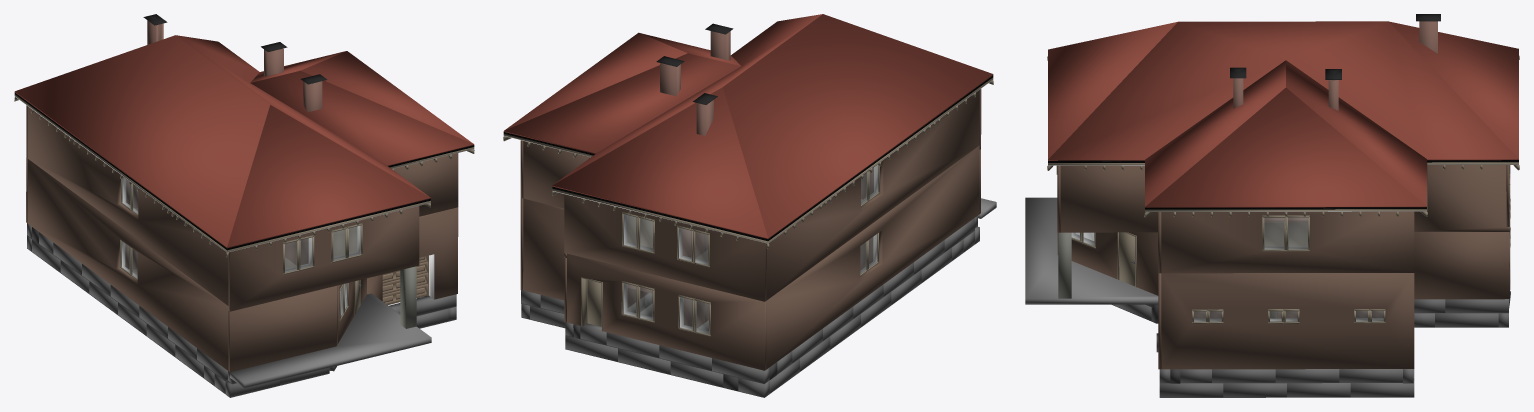
Rendered from haus2.dae.
3 views of the same model, side by side, from view 1: azimuth 30°, elevation 25°; view 2: azimuth 150°, elevation 25°; view 3: azimuth 270°, elevation 25° (orthographic). The views are drawn at different scales.
Visible parts, largest first — view 1: node_d2acf977_809f_4dec_8dc0_17726fb9cc47_mesh0; view 2: node_d2acf977_809f_4dec_8dc0_17726fb9cc47_mesh0; view 3: node_d2acf977_809f_4dec_8dc0_17726fb9cc47_mesh0.
Boxes of the visible parts, bbox=[...] form: node_d2acf977_809f_4dec_8dc0_17726fb9cc47_mesh0: bbox=[14, 14, 474, 397]; node_d2acf977_809f_4dec_8dc0_17726fb9cc47_mesh0: bbox=[503, 14, 996, 397]; node_d2acf977_809f_4dec_8dc0_17726fb9cc47_mesh0: bbox=[1025, 14, 1519, 397].
Bounding box in the file's own units: 141 × 187 × 118.
